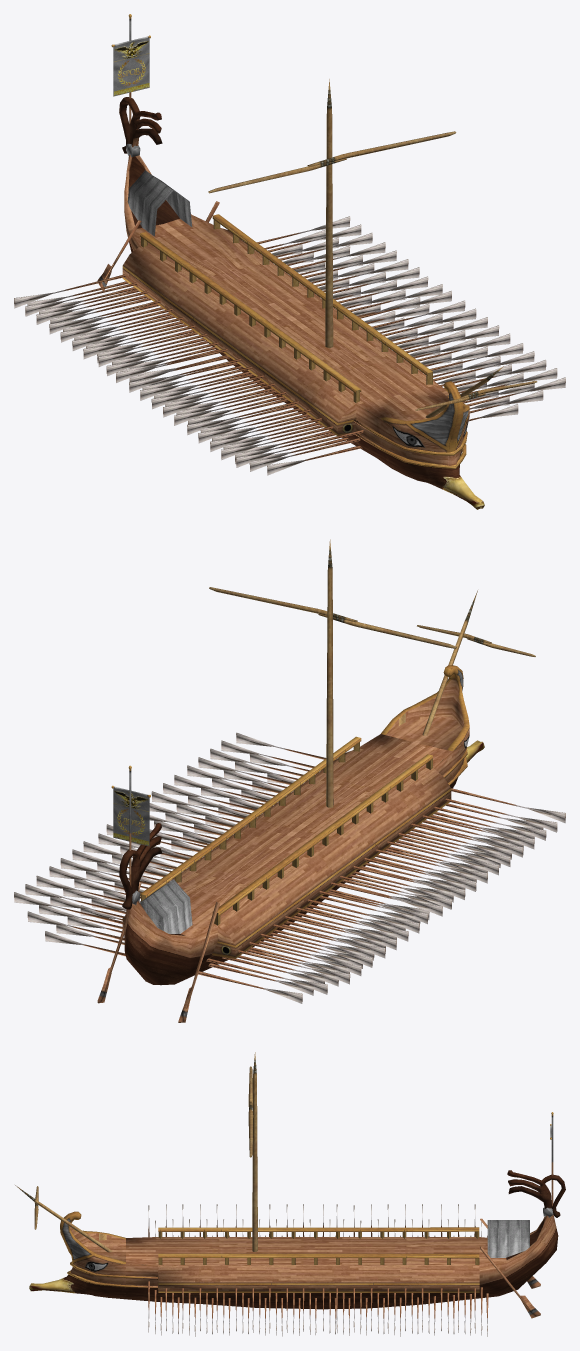
Rendered from rome_trireme.dae.
3 renders of one model, top to bottom at view 1: azimuth 30°, elevation 25°; view 2: azimuth 150°, elevation 25°; view 3: azimuth 270°, elevation 25°, orthographic. The views are drawn at different scales.
Parts seen in each view (by area): view 1: Cube_003; view 2: Cube_003; view 3: Cube_003.
Part boxes in pixels (x1,y1,x2,y2): Cube_003: [14, 14, 565, 509]; Cube_003: [14, 539, 565, 1022]; Cube_003: [15, 1052, 565, 1336].
Size of the model in its own units: 26.04 by 49.76 by 25.47.
1 material, 1 textured.
